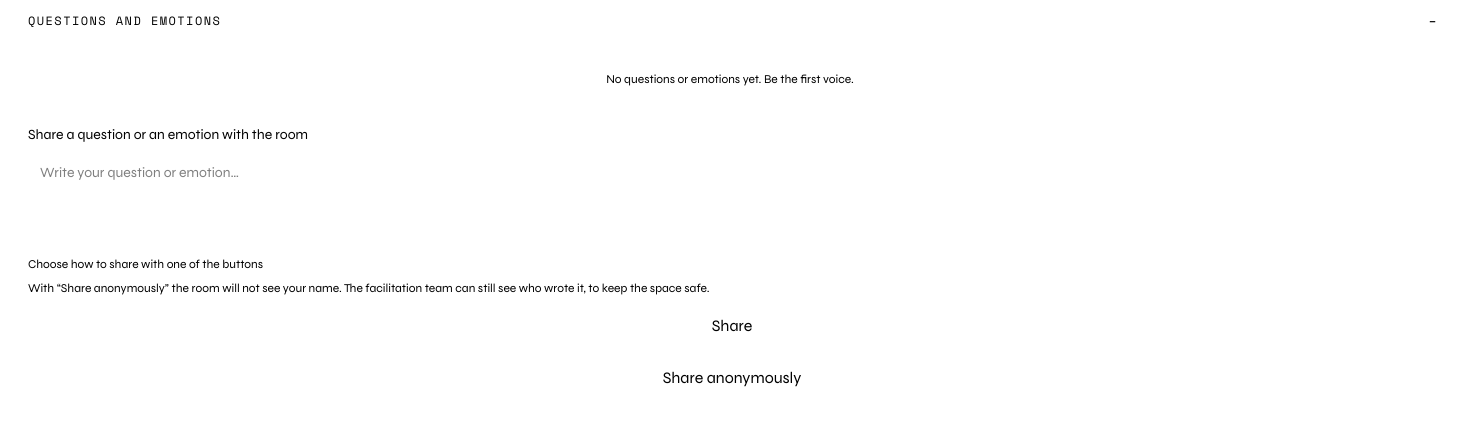
composer › malformed 2xx submit JSON preserves the draft and re-enables both actions
Check: the text "No questions or emotions yet. Be the first voice." is shown, box 606,72 -> 854,86
Type "keep malformed response draft" into the text box at (732, 197), box 28,153 -> 1436,241
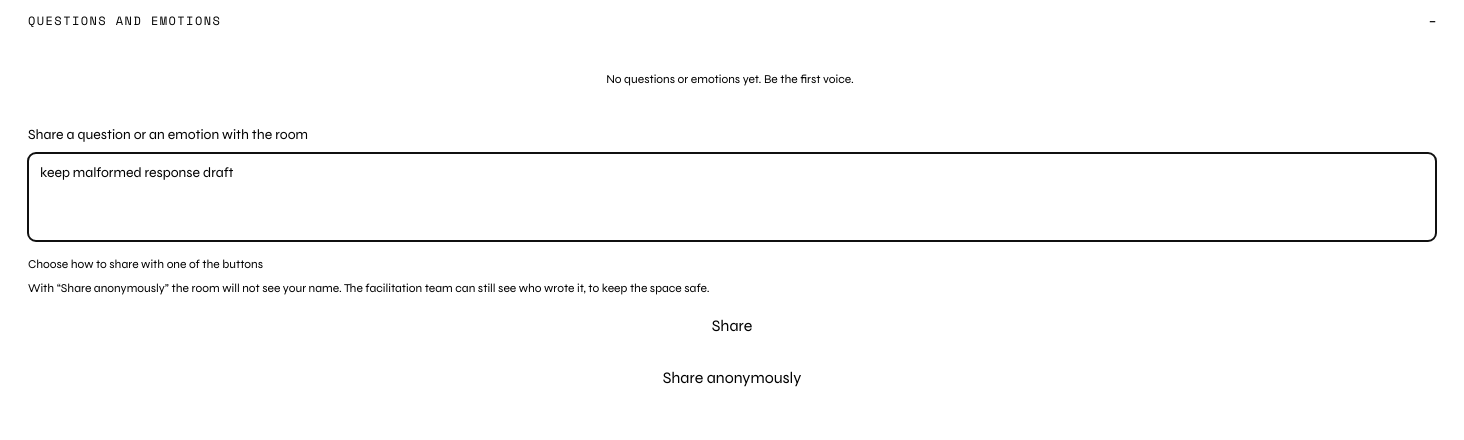
Click the button "Share anonymously" at (732, 378), box 28,356 -> 1436,400
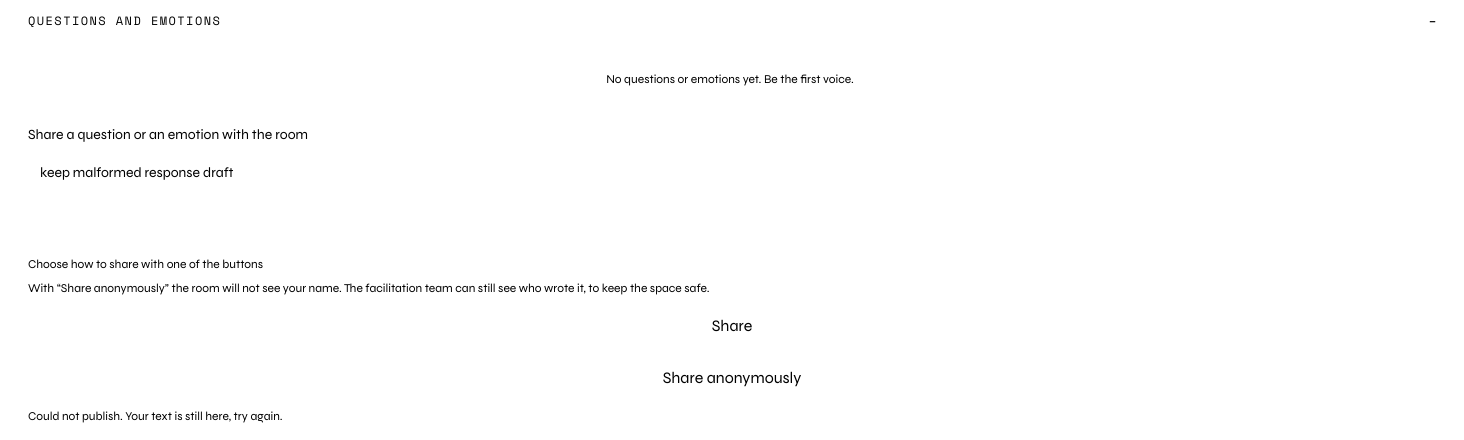
Check: the button "Share" is enabled, box 28,304 -> 1436,348
Check: the text "Could not publish. Your text is still here, try again." is shown, box 28,409 -> 283,423
